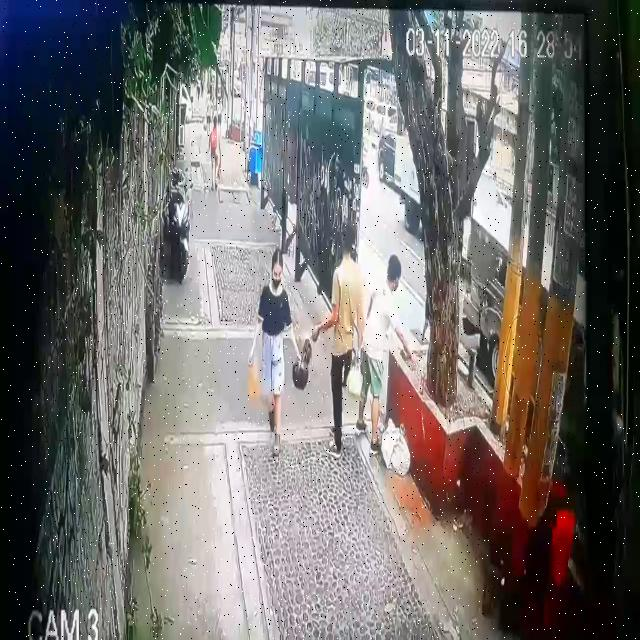human: (304, 221, 364, 459), (249, 250, 308, 458)
trash: (244, 343, 265, 408), (287, 350, 311, 388)
